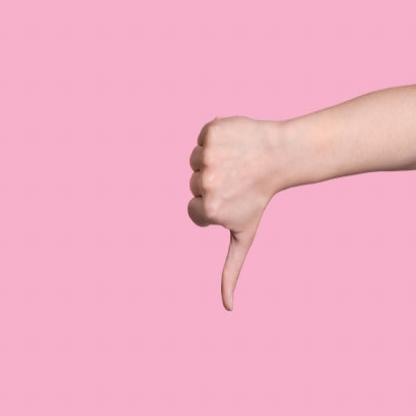thumb_down: (185, 113, 273, 316)
